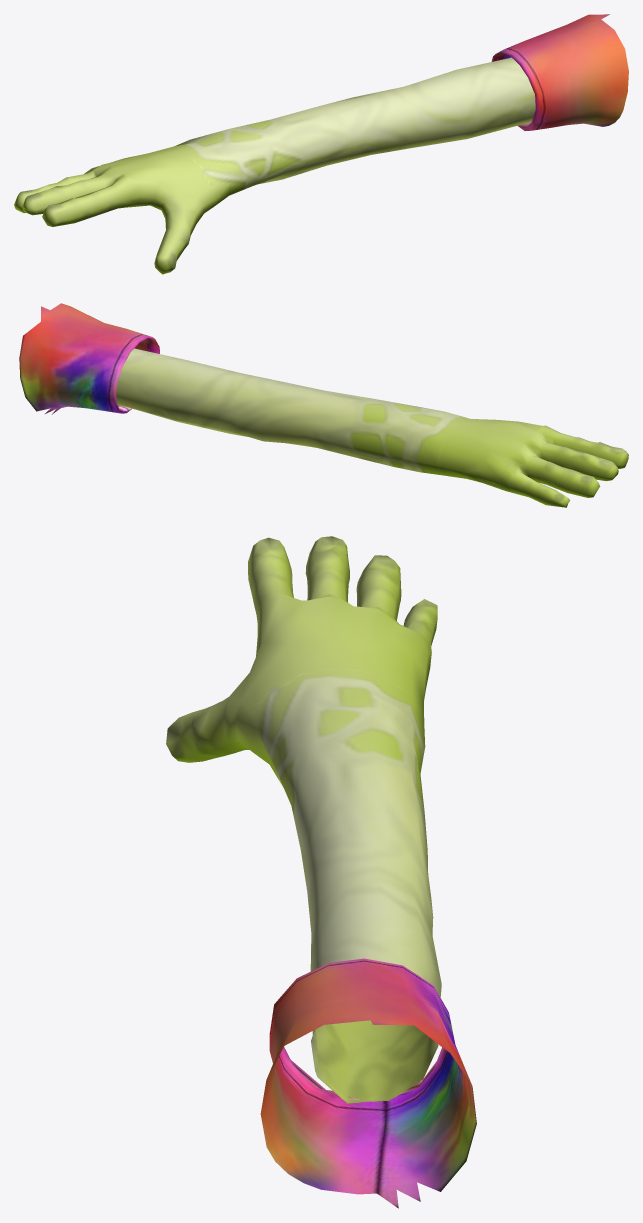
Rendered from tb_exec3_arm_nogun.glb.
3 renders of one model, top to bottom at view 1: azimuth 30°, elevation 25°; view 2: azimuth 150°, elevation 25°; view 3: azimuth 270°, elevation 25°, orthographic. The views are drawn at different scales.
Visible parts, largest first — view 1: exec_arm; view 2: exec_arm; view 3: exec_arm.
Boxes of the visible parts, x1=… form: exec_arm: x1=14, y1=14, x2=628, y2=274; exec_arm: x1=19, y1=303, x2=628, y2=507; exec_arm: x1=166, y1=536, x2=476, y2=1208.
Size of the model in its own units: 0.9586 by 0.1619 by 0.2277.
2 materials, 2 textured.
